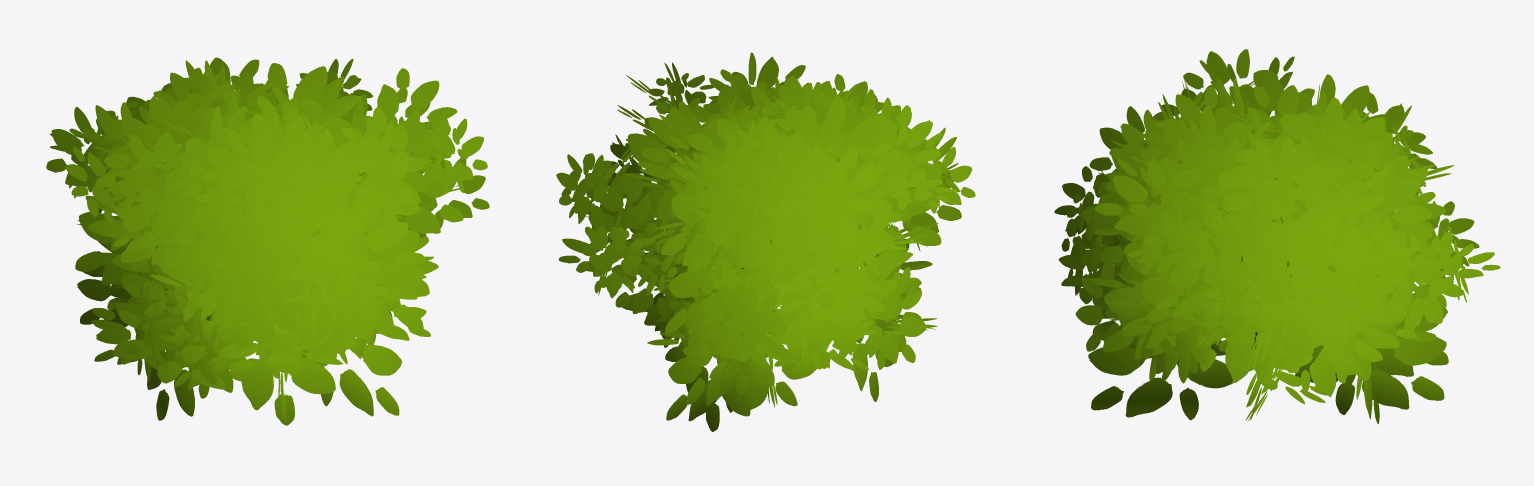
Rendered from bush_fruit_bare_50.gltf.
3 renders of one model, left to right at view 1: azimuth 30°, elevation 25°; view 2: azimuth 150°, elevation 25°; view 3: azimuth 270°, elevation 25°, orthographic. The views are drawn at different scales.
Parts seen in each view (by area): view 1: bush_fruit_bare_50; view 2: bush_fruit_bare_50; view 3: bush_fruit_bare_50.
Part boxes in pixels (bbox=[...]): bush_fruit_bare_50: bbox=[46, 57, 489, 425]; bush_fruit_bare_50: bbox=[556, 52, 975, 431]; bush_fruit_bare_50: bbox=[1054, 49, 1500, 424].
Size of the model in its own units: 0.9112 by 0.7998 by 0.8974.
Materials: 1 (1 with a texture image).
